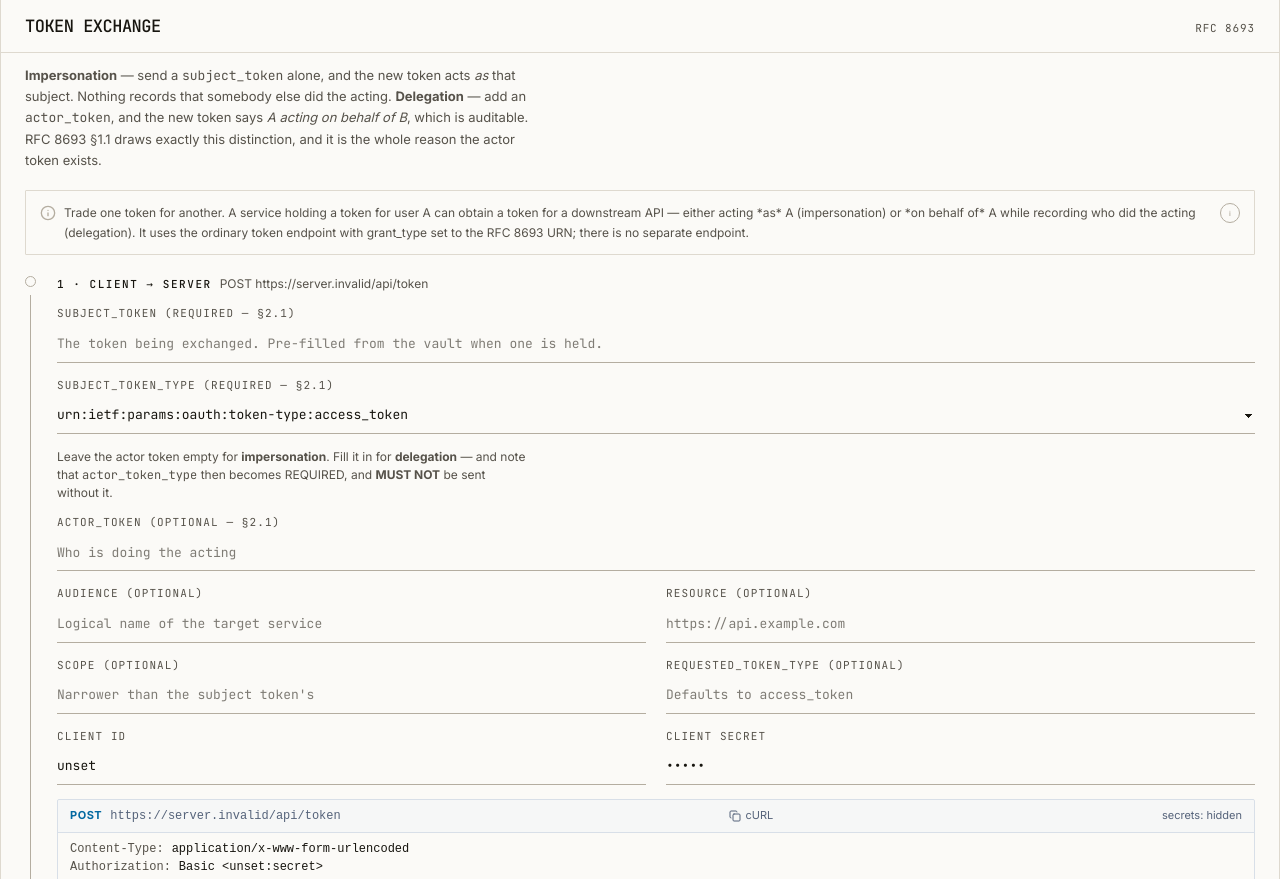
Scenario: the deliberate defects are reported as deliberate › says nothing when the response is conformant
The width and height of the screenshot is (1280, 879).
Step 1. Replace the text in the field labelled "subject_token (REQUIRED — §2.1)" with "subject-at" → [656, 345], box [57,327,1255,363]
(page scrolled)
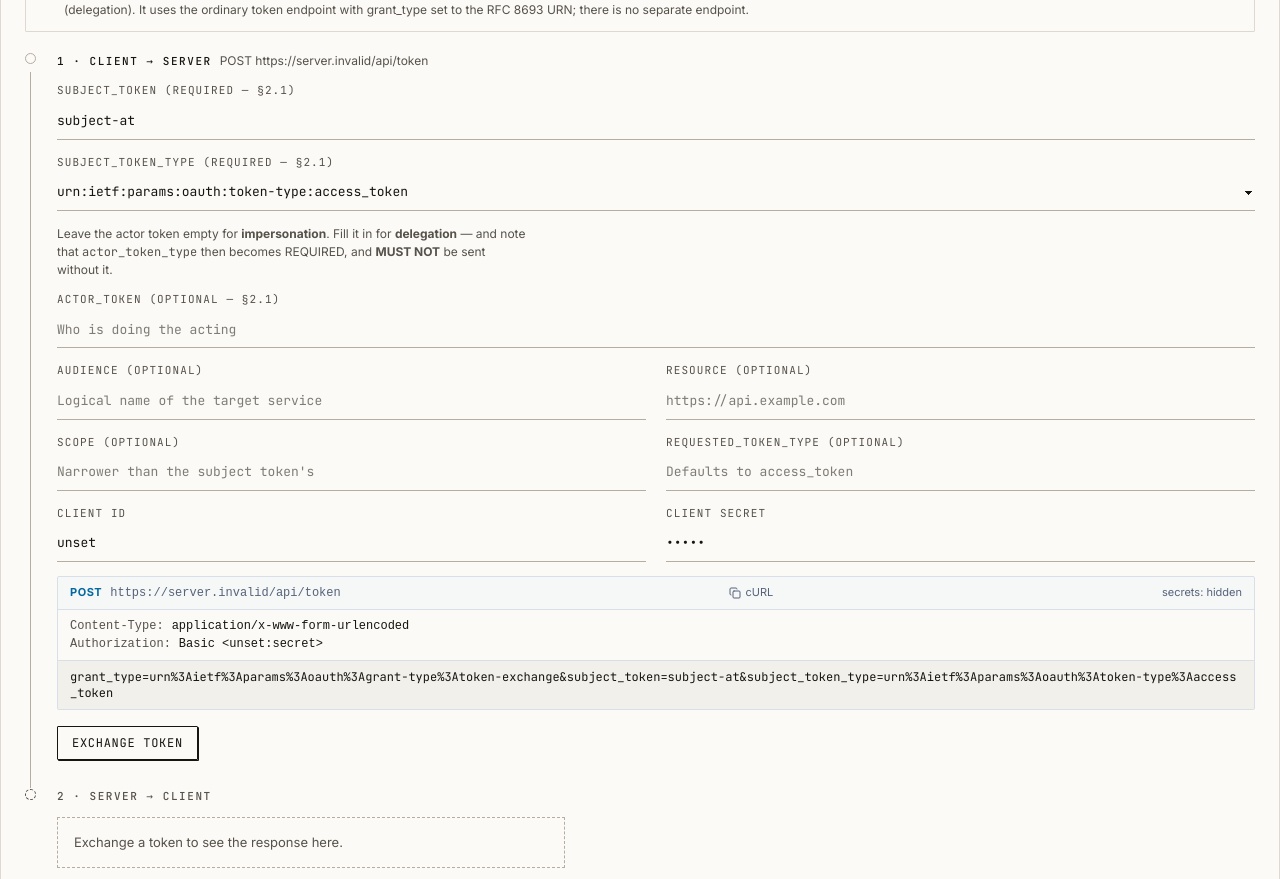
Step 2. Click the button "Exchange token" → [127, 743], box [57,726,198,760]
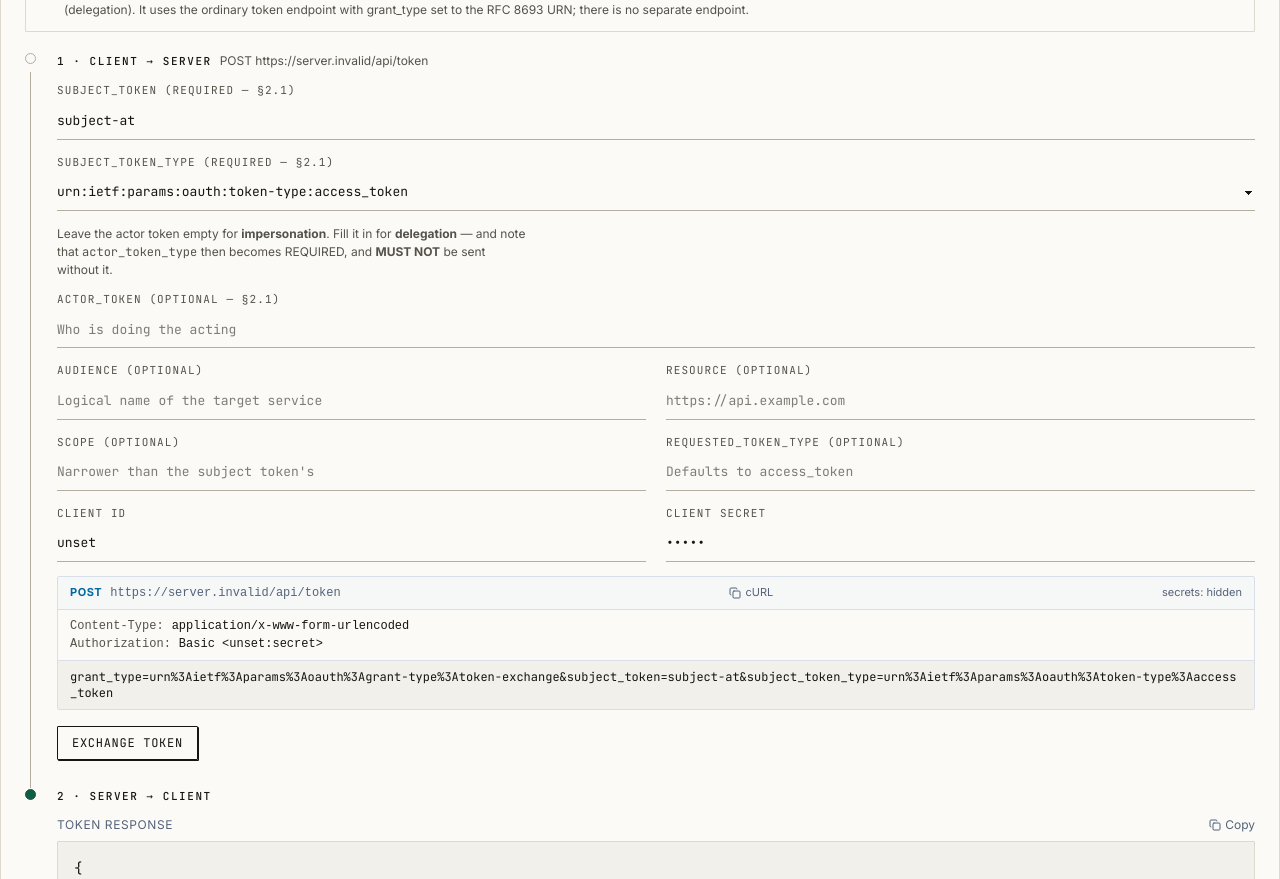
Check: the text "Token Response" is shown, box [57,817,173,833]
